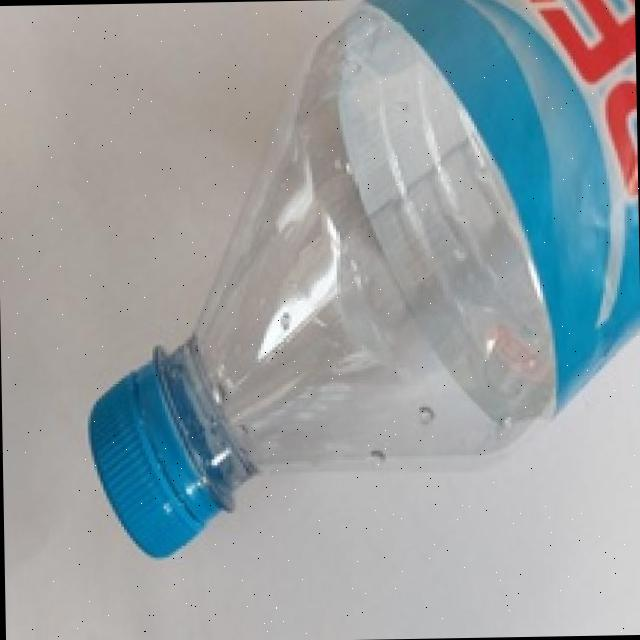bottle: (76, 0, 640, 575)
cap: (84, 343, 241, 561)
label: (361, 0, 640, 425)
